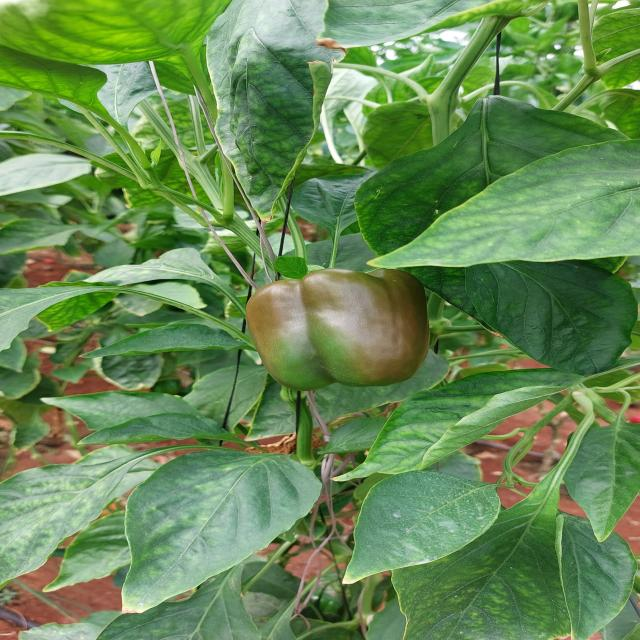BrownishRed--Can-be-Harvested: (248, 272, 432, 389)
